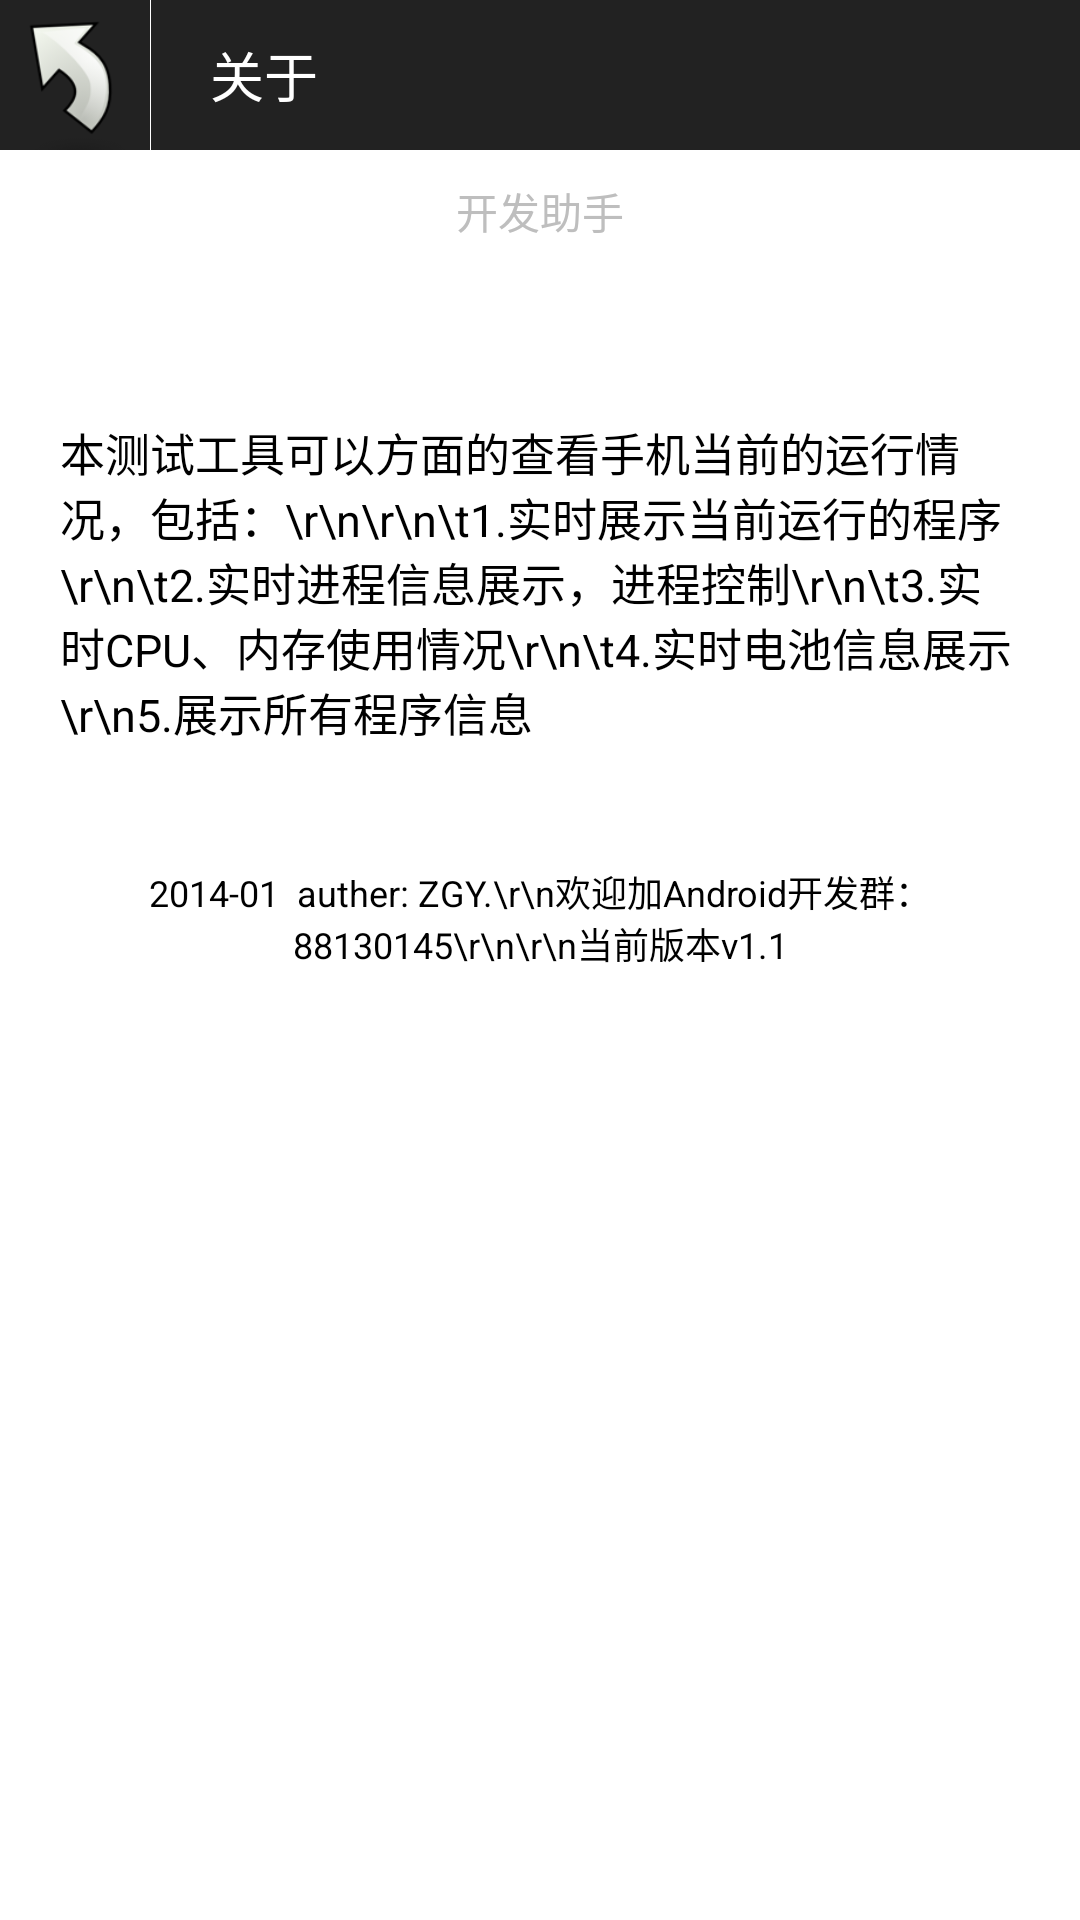

Locate icon controls on the screen. Image size 1080w x 1920h, boxes as box=[x1, y1, x2, y2].
back: box=[31, 23, 111, 133]
